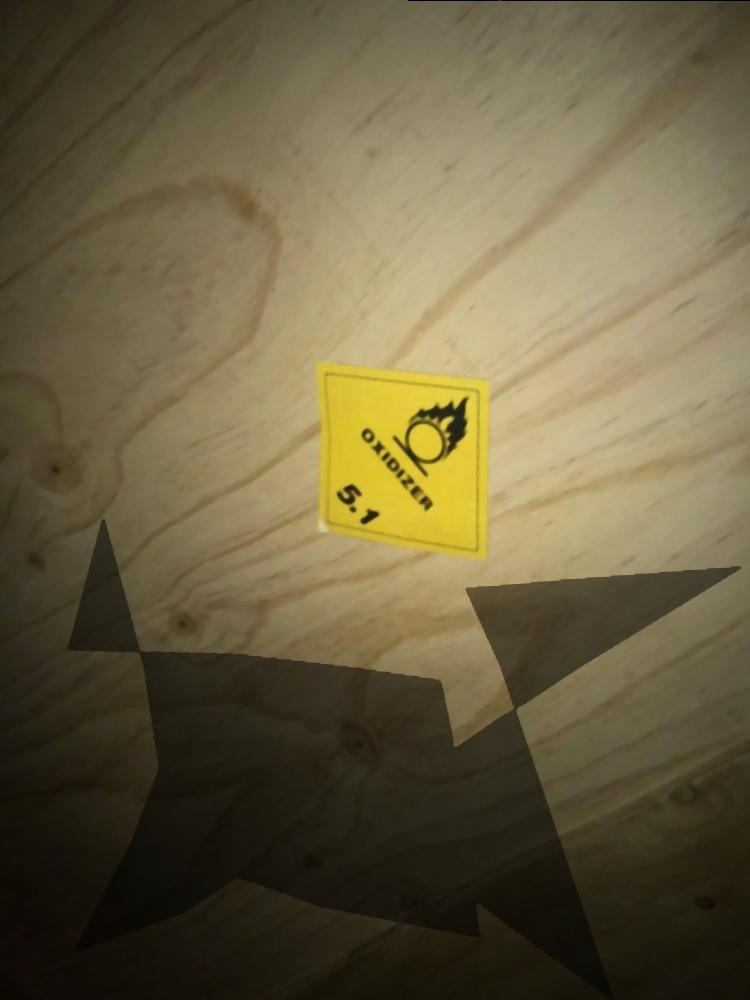oxidizer: (314, 357, 503, 552)
